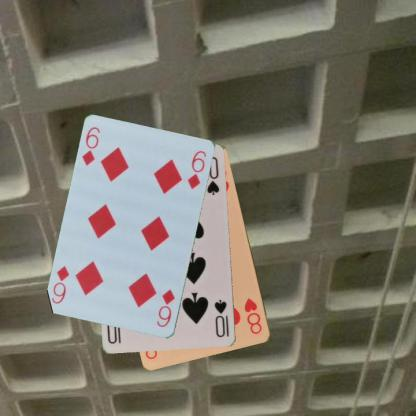10s: (212, 297, 231, 339)
6d: (79, 124, 102, 168), (154, 287, 176, 329)
8h: (242, 295, 264, 336)
